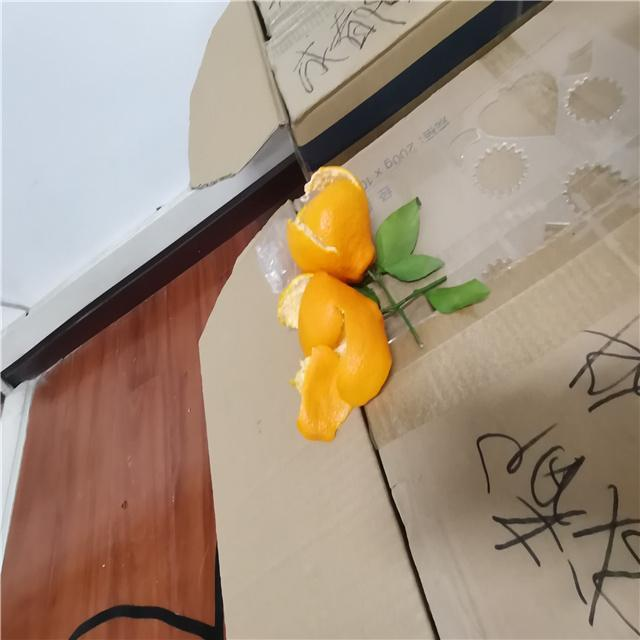orange-peel: (275, 164, 396, 442)
